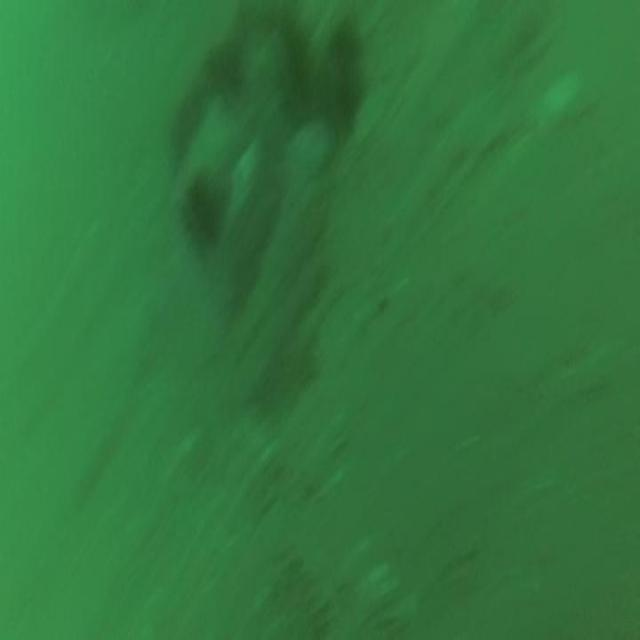echinus: (327, 24, 363, 128), (180, 166, 222, 251), (282, 24, 319, 120), (209, 38, 243, 103)
